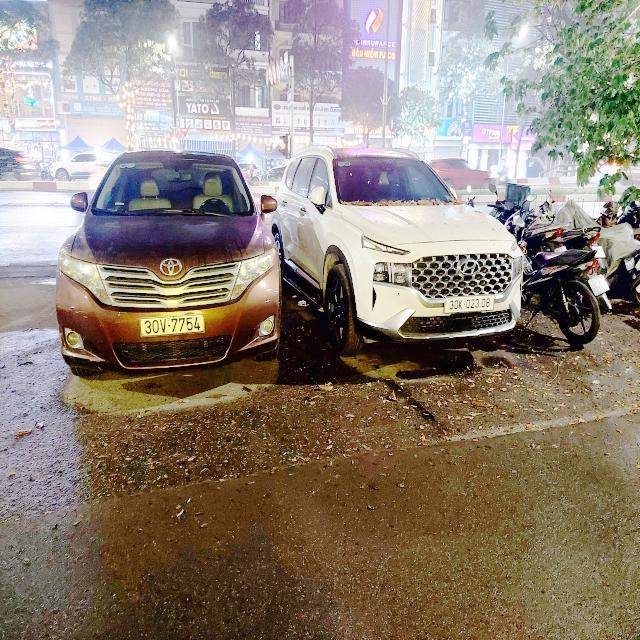license_plate: (141, 314, 208, 339), (444, 294, 498, 317), (588, 273, 613, 299)
